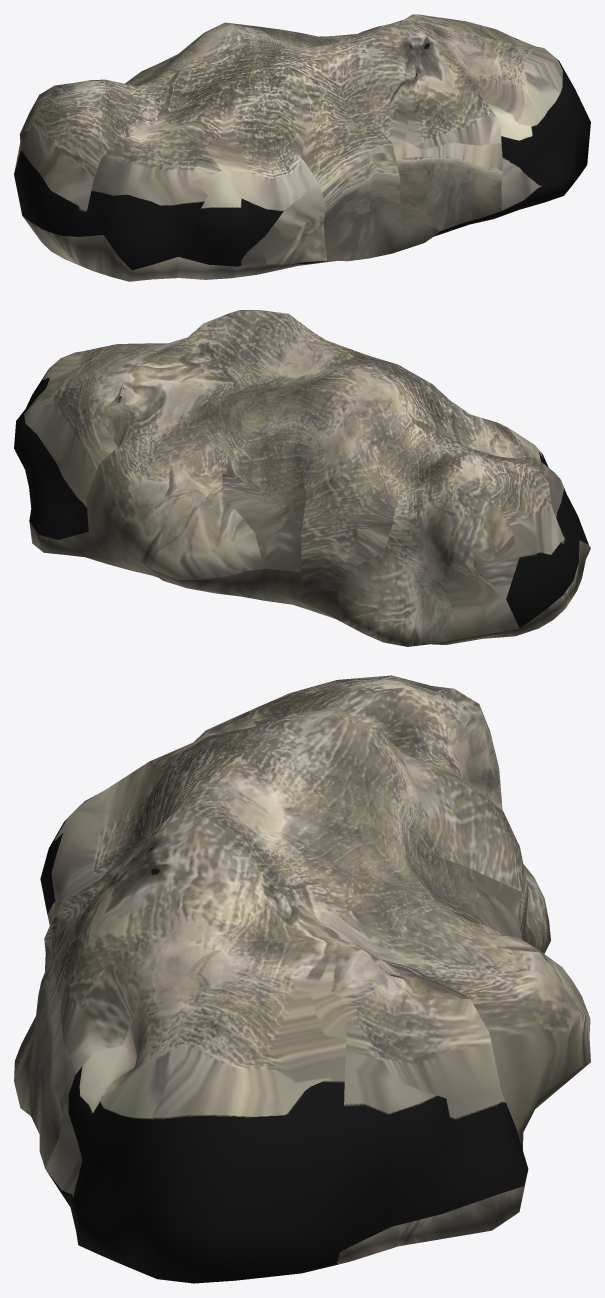
The model's file is rock5_LOD0_VersionB.fbx.
3 renders of one model, top to bottom at view 1: azimuth 30°, elevation 25°; view 2: azimuth 150°, elevation 25°; view 3: azimuth 270°, elevation 25°, orthographic. The views are drawn at different scales.
Visible parts, largest first — view 1: rock5; view 2: rock5; view 3: rock5.
Part boxes in pixels (<box>): rock5: <box>14,14,590,281</box>; rock5: <box>14,310,590,646</box>; rock5: <box>14,675,590,1283</box>.
Size of the model in its own units: 214 by 74.71 by 123.
